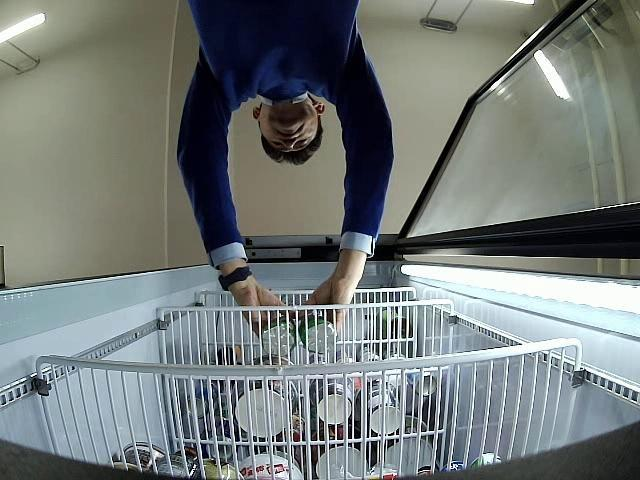18_trevi: (298, 316, 338, 356), (260, 316, 297, 354)
